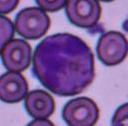E: (34, 32, 94, 95)
